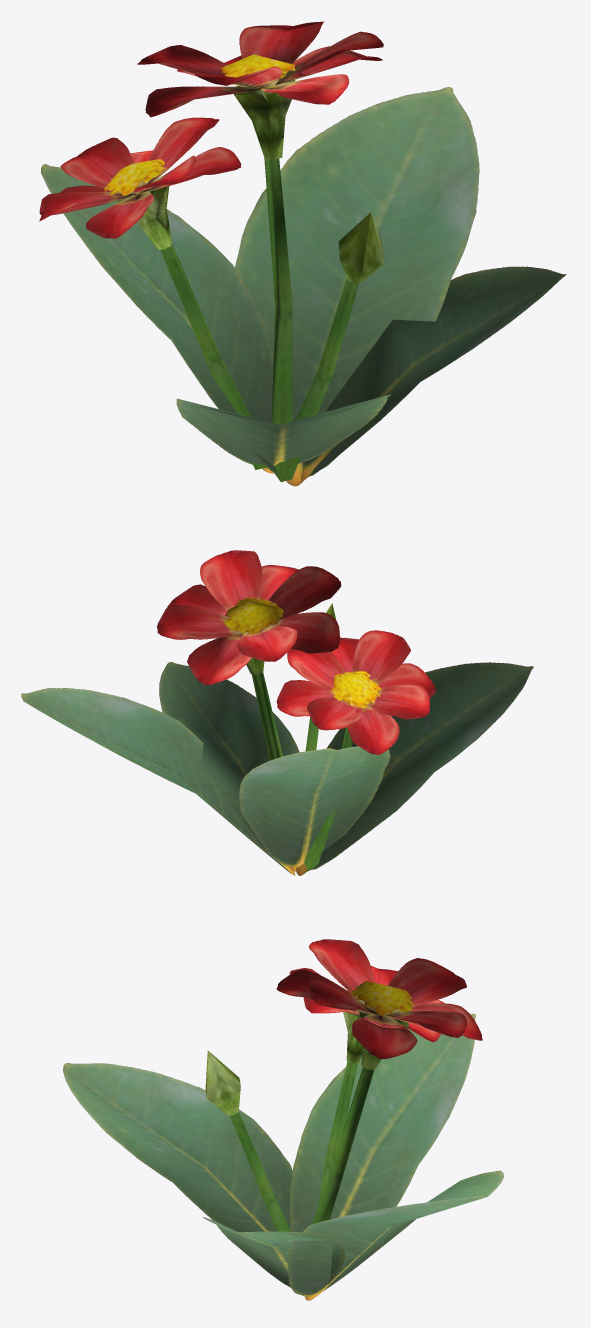
Rendered from redf3.obj.
The picture shows the model from 3 angles, top to bottom: view 1: azimuth 30°, elevation 25°; view 2: azimuth 150°, elevation 25°; view 3: azimuth 270°, elevation 25°; orthographic projection. The views are drawn at different scales.
Parts seen in each view (by area): view 1: redflower03; view 2: redflower03; view 3: redflower03.
Boxes of the visible parts, left/top/right/bottom form: redflower03: left=39, top=21, right=565, bottom=486; redflower03: left=21, top=550, right=533, bottom=875; redflower03: left=63, top=939, right=504, bottom=1300.
Size of the model in its own units: 37.19 by 26.44 by 38.86.
Materials: 2 (2 with a texture image).
